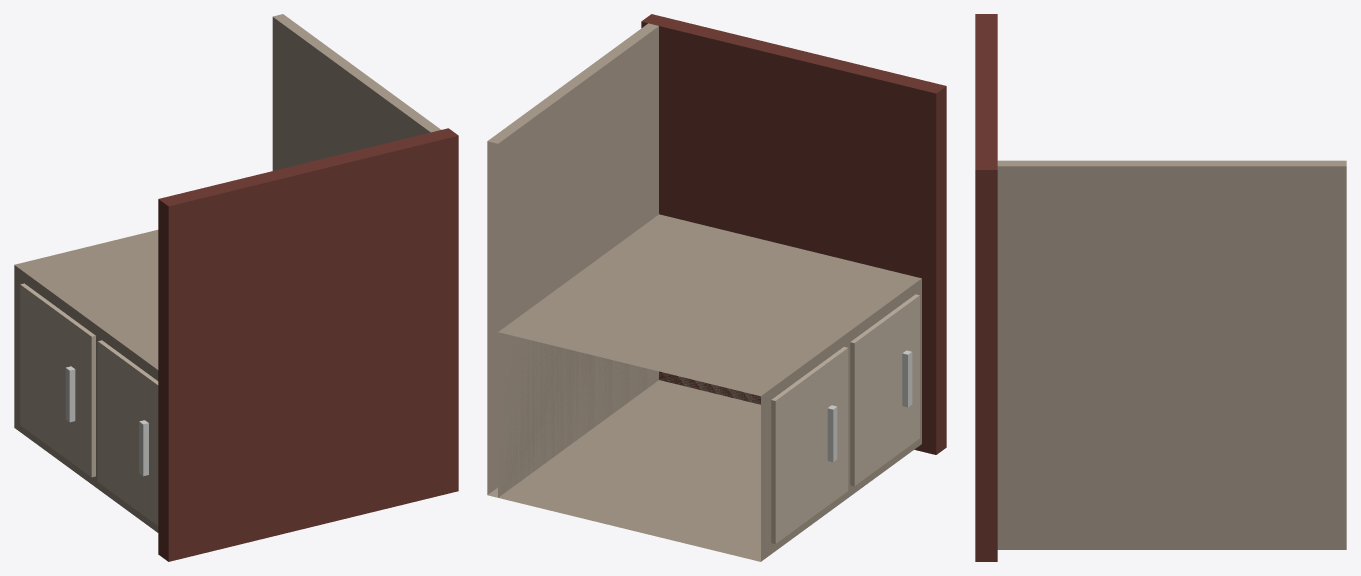
The model's file is ldesk-n-116.obj.
The picture shows the model from 3 angles, left to right: view 1: azimuth 30°, elevation 25°; view 2: azimuth 150°, elevation 25°; view 3: azimuth 270°, elevation 25°; orthographic projection. The views are drawn at different scales.
Size of the model in its own units: 0.82 by 0.96 by 0.825.
Materials: 1 (1 with a texture image).
